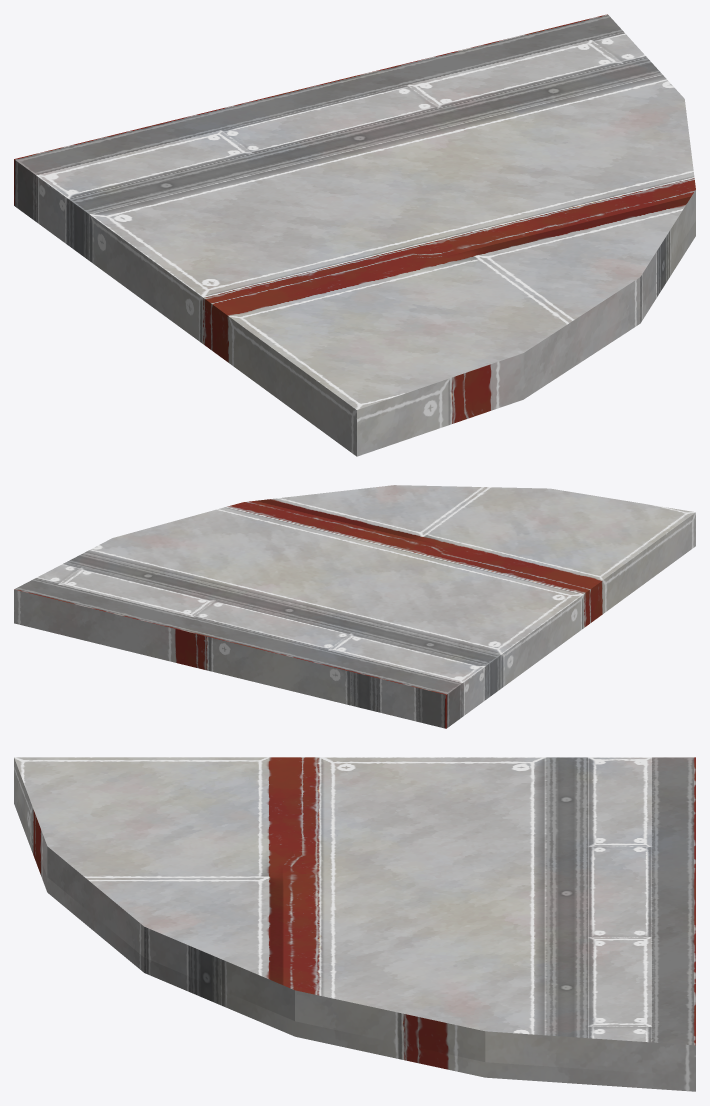
File: SM_Ceiling_Circular_A.fbx
3 renders of one model, top to bottom at view 1: azimuth 30°, elevation 25°; view 2: azimuth 150°, elevation 25°; view 3: azimuth 270°, elevation 25°, orthographic. The views are drawn at different scales.
Parts seen in each view (by area): view 1: SM_Ceiling_Circular_A; view 2: SM_Ceiling_Circular_A; view 3: SM_Ceiling_Circular_A.
Part boxes in pixels (x1,y1,x2,y2): SM_Ceiling_Circular_A: (14, 14, 695, 456); SM_Ceiling_Circular_A: (14, 485, 695, 728); SM_Ceiling_Circular_A: (14, 757, 695, 1091).
Bounding box in the file's own units: 200 × 15 × 200.
Materials: 1 (1 with a texture image).
